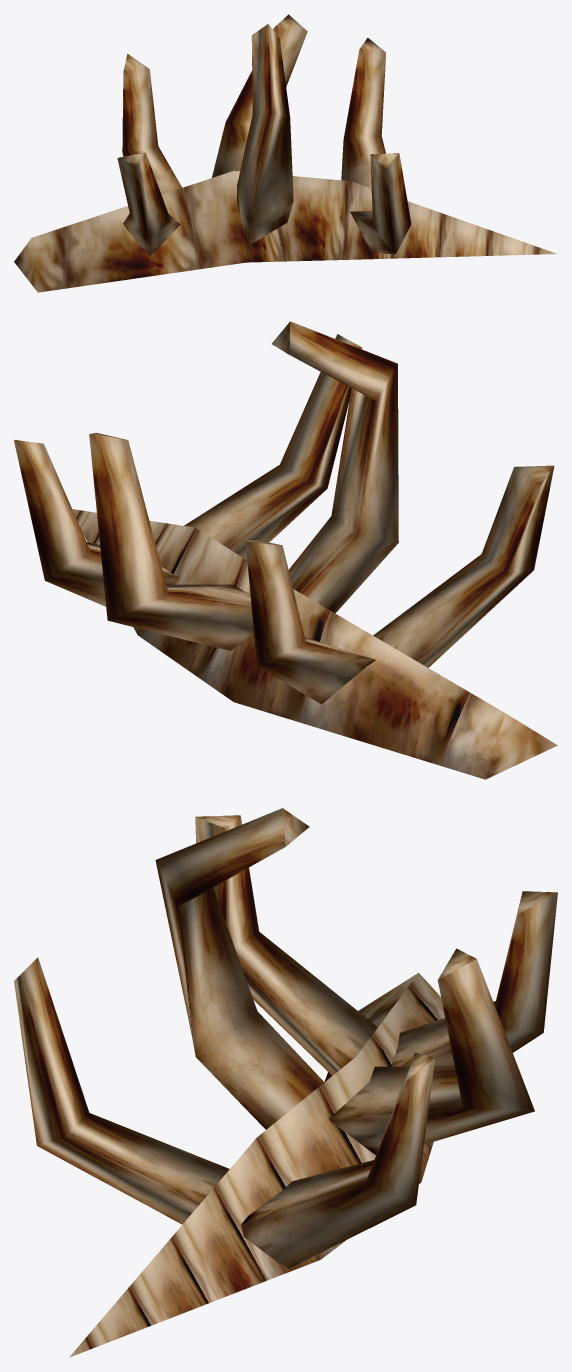
The model's file is blastedlandsspine01.obj.
3 renders of one model, top to bottom at view 1: azimuth 30°, elevation 25°; view 2: azimuth 150°, elevation 25°; view 3: azimuth 270°, elevation 25°, orthographic. The views are drawn at different scales.
Visible parts, largest first — view 1: blastedlandsspine01; view 2: blastedlandsspine01; view 3: blastedlandsspine01.
Part boxes in pixels (x1,y1,x2,y2): blastedlandsspine01: [14, 14, 556, 292]; blastedlandsspine01: [14, 321, 557, 779]; blastedlandsspine01: [14, 808, 557, 1357].
Bounding box in the file's own units: 1.03 × 0.5626 × 0.7012.
1 material, 1 textured.
